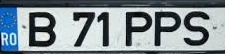character: (124, 10, 153, 47), (183, 9, 211, 47), (27, 11, 56, 47), (153, 10, 181, 46), (72, 9, 97, 48), (96, 10, 112, 48)
